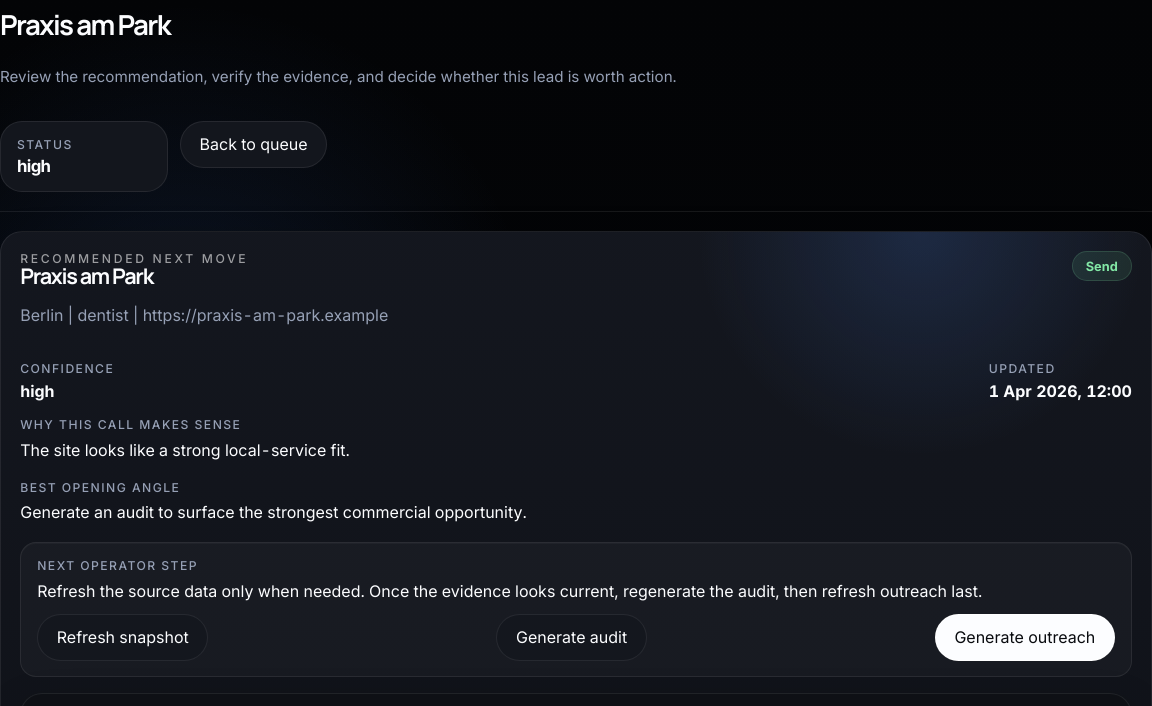
it: LeadDetailPage › marks outreach stale after audit regeneration and repopulates the editor after outreach generation
The image size is (1152, 706).
Click the button "Generate audit" at (572, 637), box [496,614,647,661]
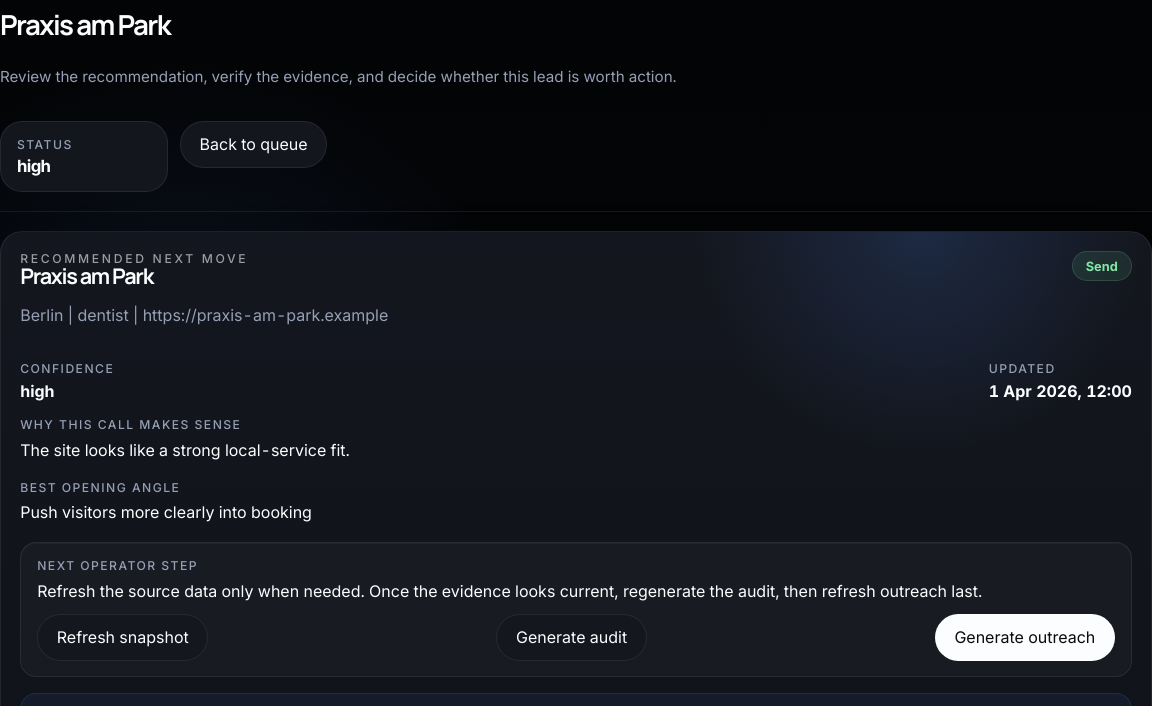
Click the button "Generate outreach" at (1025, 637), box [935,614,1115,661]
(page scrolled)
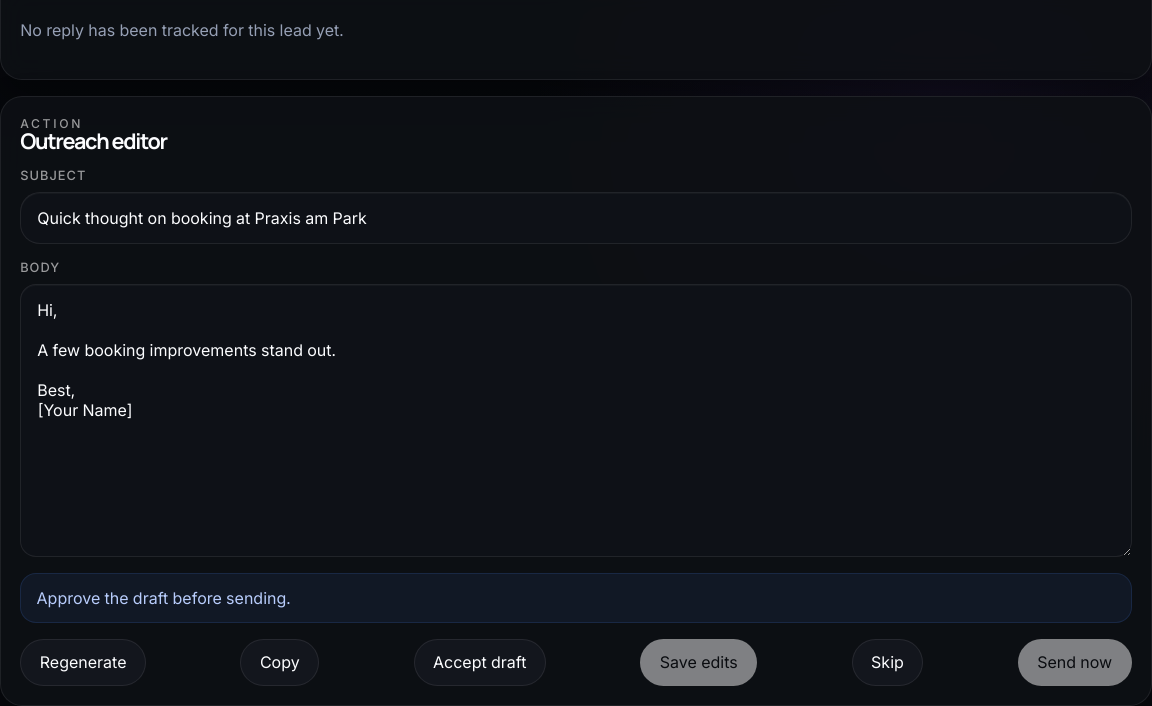
expect the field showing "Quick thought on booking at Praxis am Park" is shown: met, box [20,192,1132,244]
